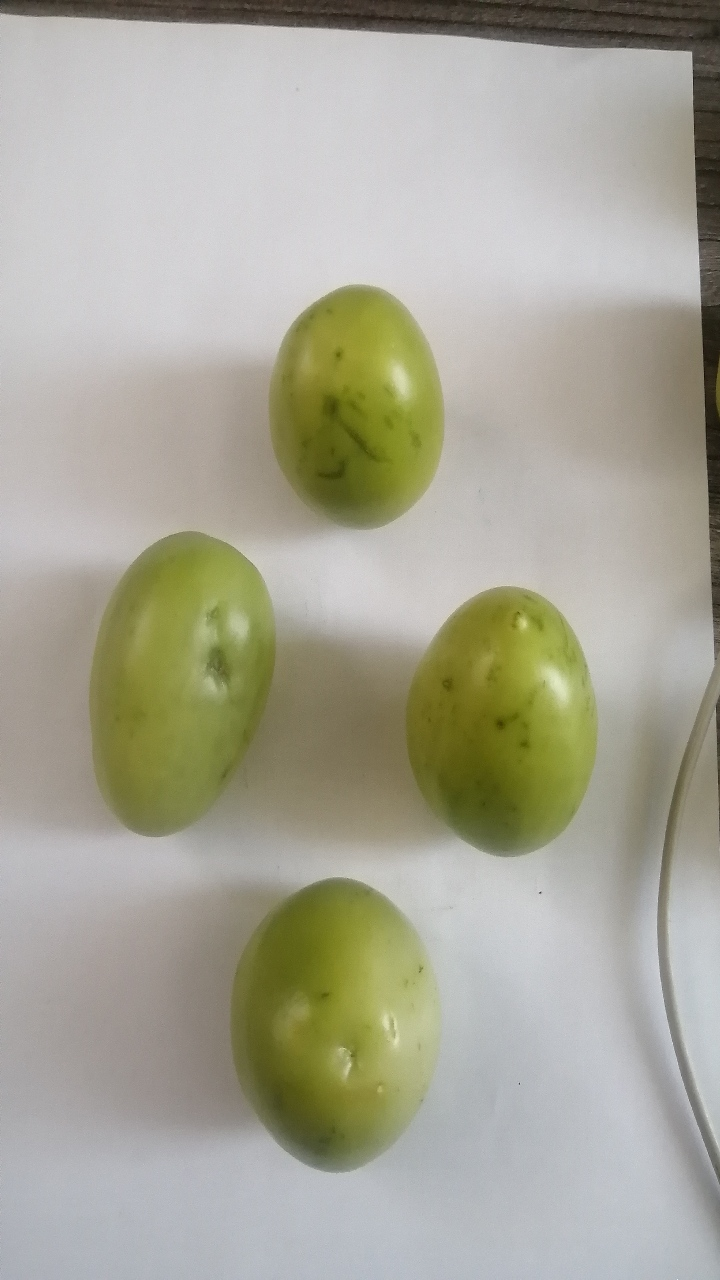tomateVerde: (194, 862, 455, 1191), (375, 552, 612, 877), (75, 509, 277, 860), (241, 263, 466, 552)
